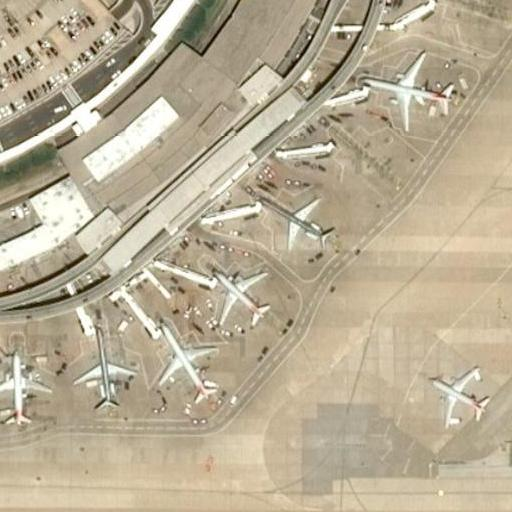Aircraft: (362, 47, 449, 128), (153, 328, 223, 405), (194, 264, 276, 325), (427, 359, 495, 432), (261, 189, 336, 255), (73, 338, 137, 410), (0, 346, 48, 428)
